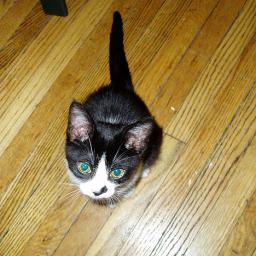catnose: (90, 188, 106, 196)
